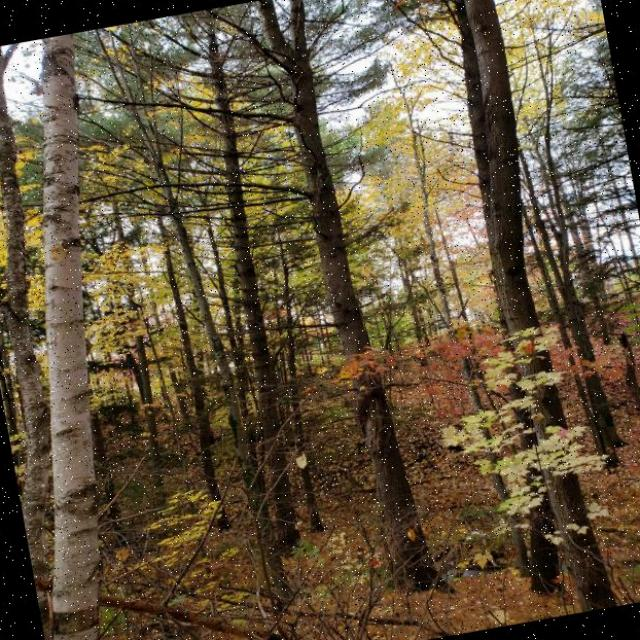fallen_object: (29, 485, 448, 640)
